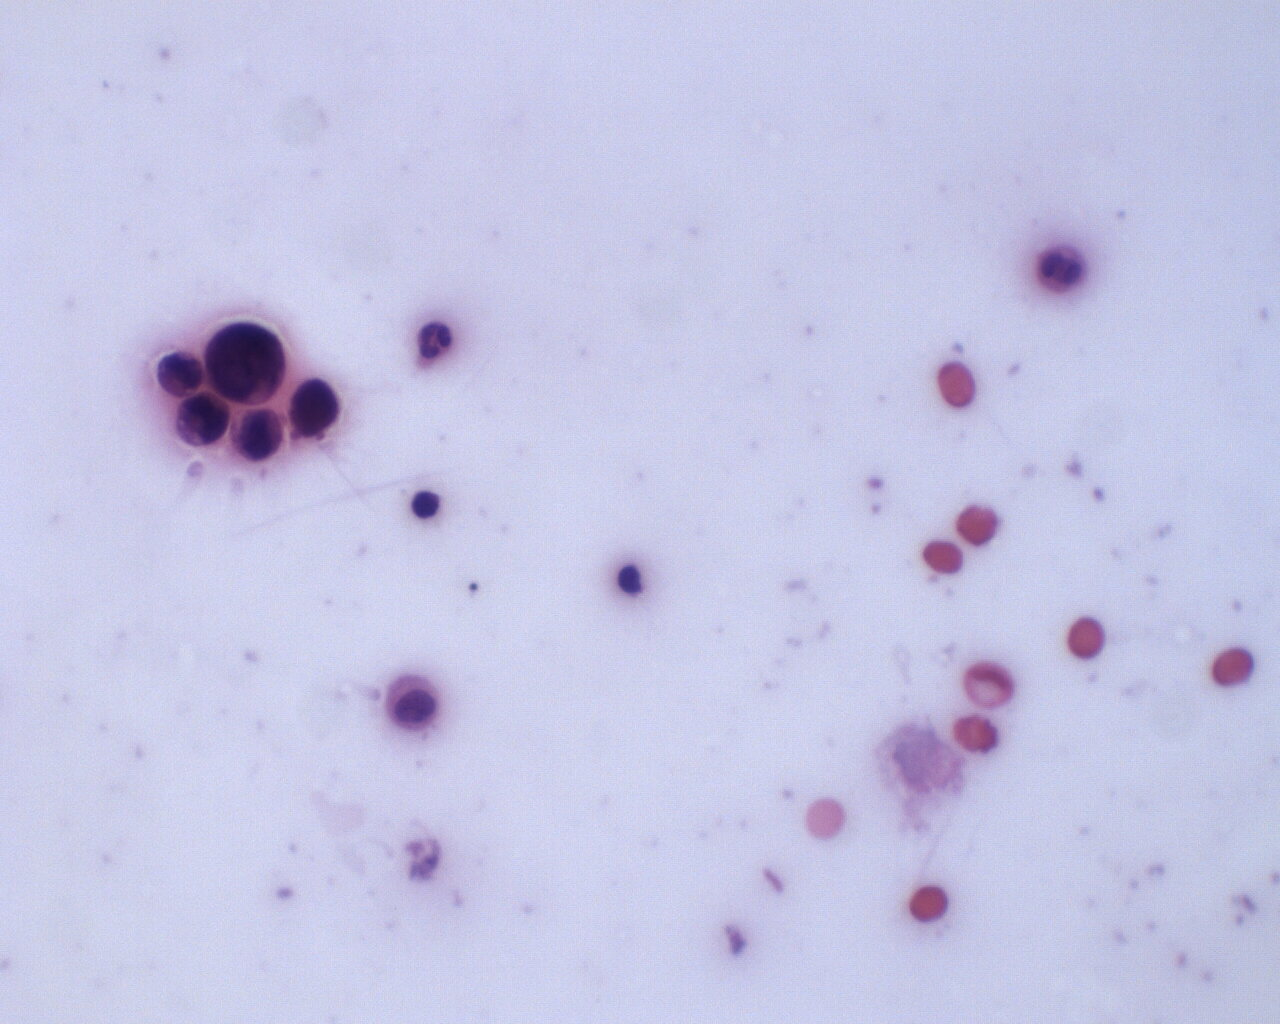ab: (200, 316, 287, 409), (234, 402, 288, 467), (173, 390, 230, 451), (285, 375, 341, 438), (153, 348, 210, 400)
lymph: (408, 486, 446, 522)
neutro: (413, 318, 457, 367)
